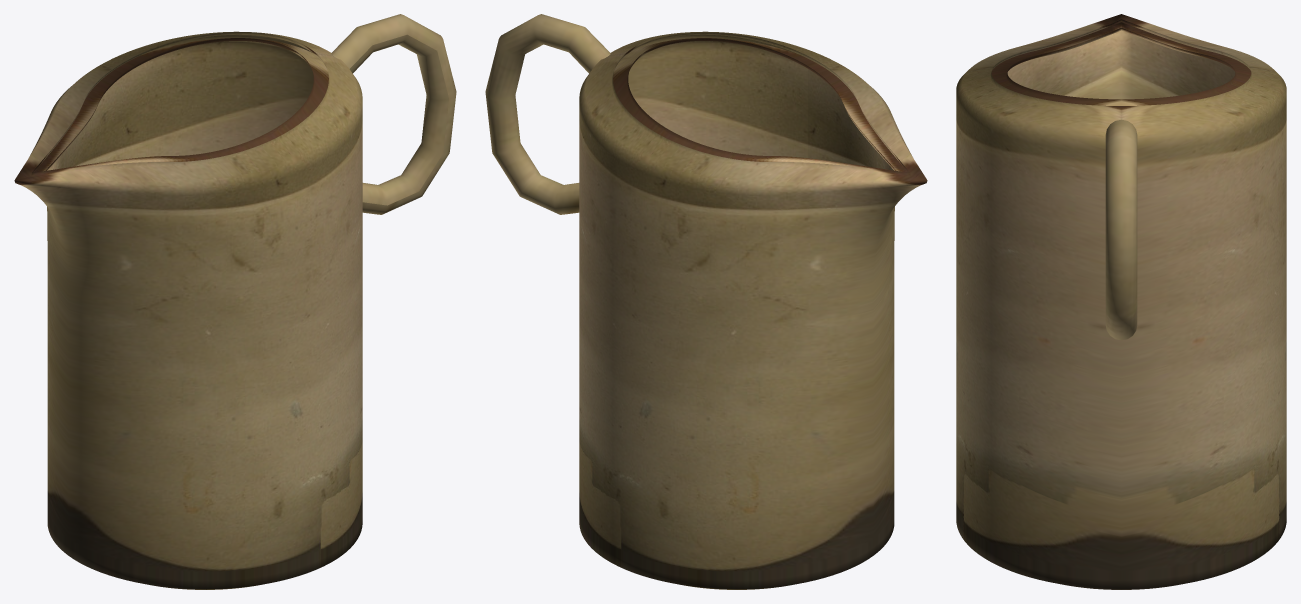
File: jarra_23_10_web.glb
3 views of the same model, side by side, from view 1: azimuth 30°, elevation 25°; view 2: azimuth 150°, elevation 25°; view 3: azimuth 270°, elevation 25° (orthographic). The views are drawn at different scales.
Parts seen in each view (by area): view 1: Jarra_de_Ceramica; view 2: Jarra_de_Ceramica; view 3: Jarra_de_Ceramica.
Part boxes in pixels (box(x1,y1,x2,y2)): Jarra_de_Ceramica: box(14, 14, 456, 589); Jarra_de_Ceramica: box(485, 14, 927, 589); Jarra_de_Ceramica: box(956, 14, 1286, 589).
Bounding box in the file's own units: 0.2011 × 0.2046 × 0.1247.
1 material, 1 textured.
